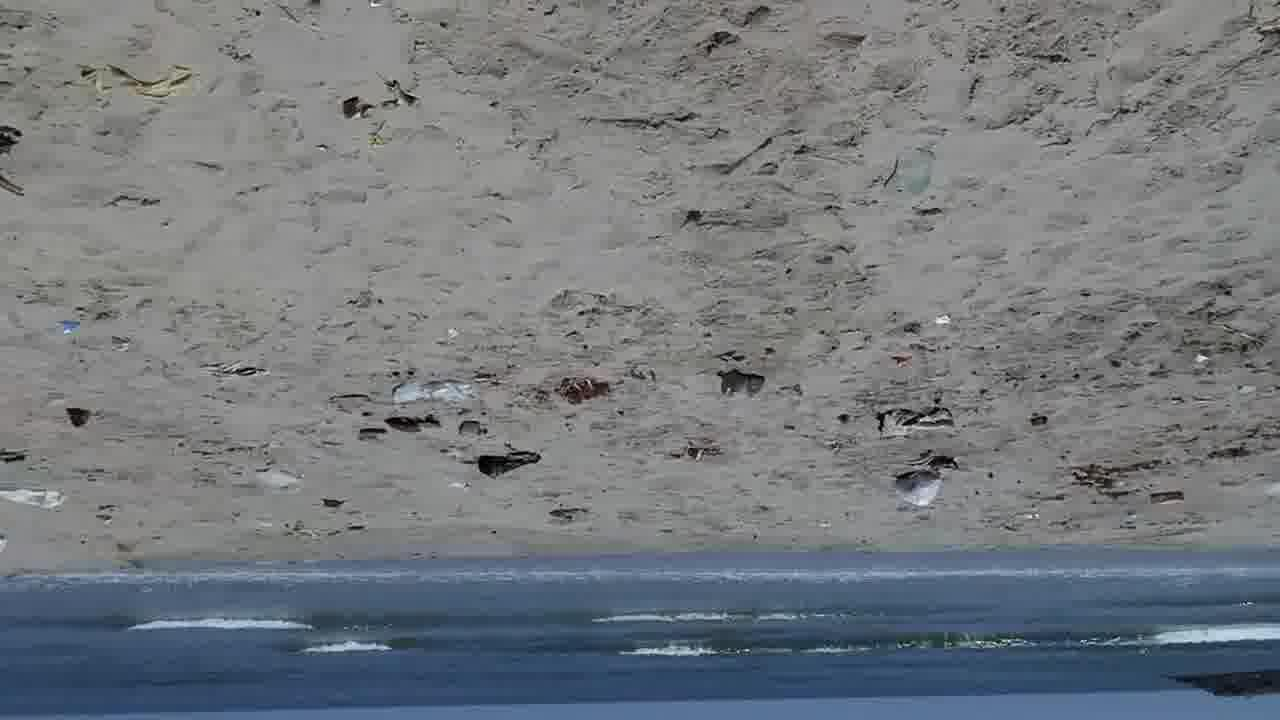obj: (80, 58, 200, 100), (1066, 454, 1166, 504), (388, 368, 486, 414), (340, 72, 418, 126), (880, 406, 964, 443), (474, 442, 542, 484), (894, 464, 947, 510), (1, 121, 30, 196), (715, 369, 766, 405), (4, 485, 66, 512), (252, 462, 302, 491), (366, 123, 401, 151), (66, 406, 94, 432), (460, 416, 487, 438), (0, 448, 27, 467)
sand/background: (0, 536, 1280, 719)
